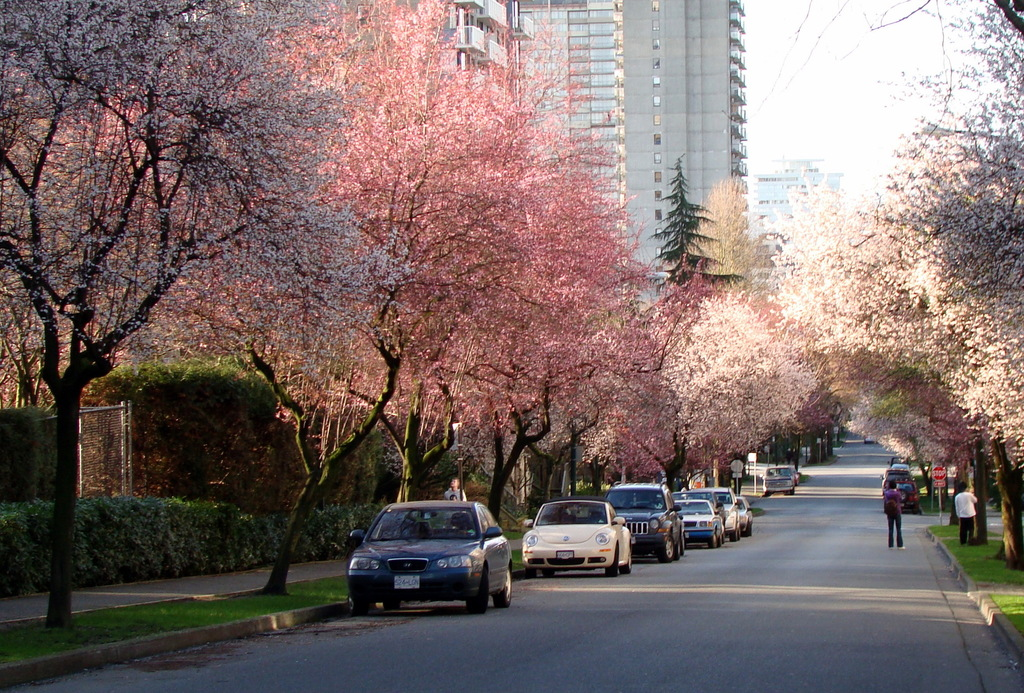Car: (522, 479, 753, 577), (339, 500, 515, 616), (520, 495, 634, 570), (605, 477, 688, 561), (672, 497, 719, 548), (882, 457, 921, 505), (763, 464, 793, 493), (864, 432, 877, 442), (794, 468, 798, 484)
